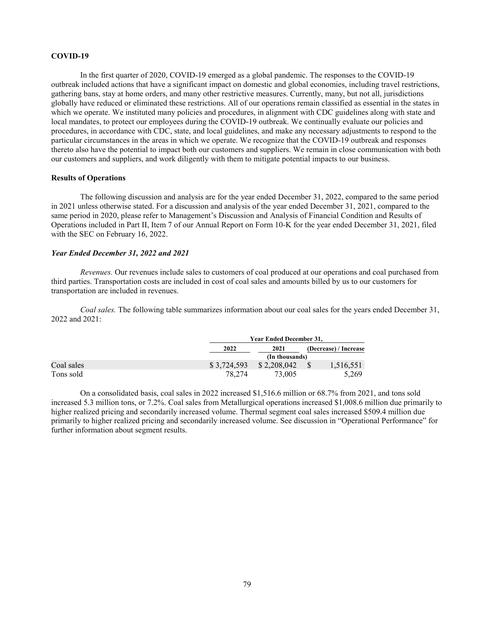box: (48, 334, 366, 381)
